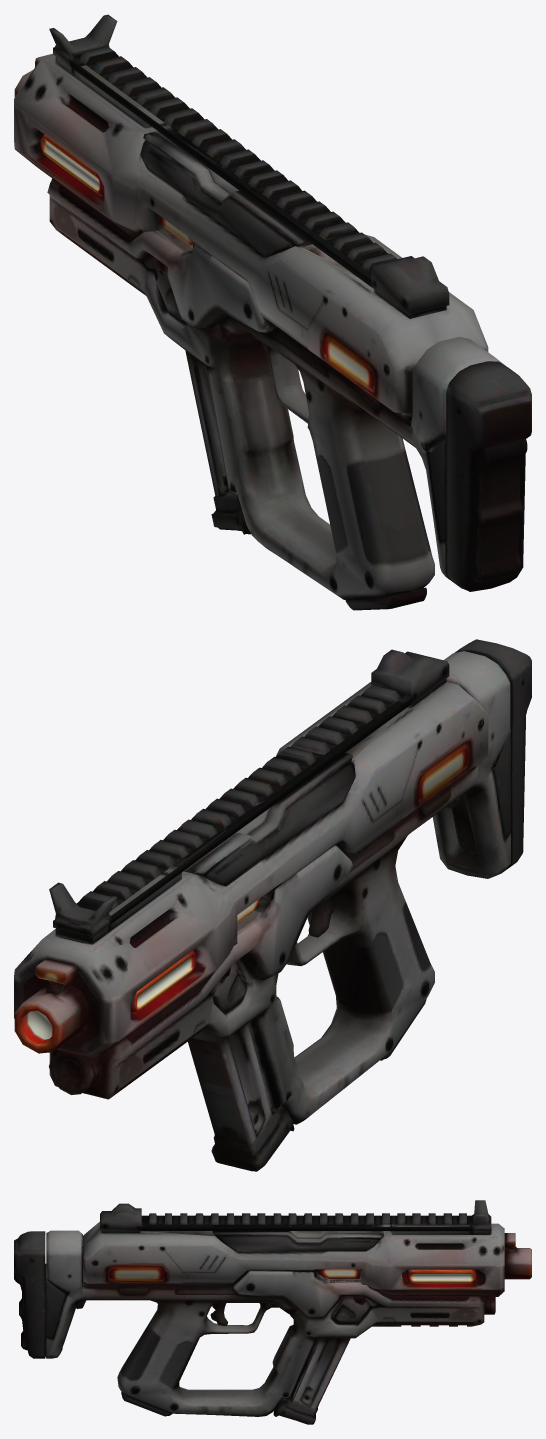
File: weapon-smg-v1.glb
The picture shows the model from 3 angles, top to bottom: view 1: azimuth 30°, elevation 25°; view 2: azimuth 150°, elevation 25°; view 3: azimuth 270°, elevation 25°; orthographic projection. The views are drawn at different scales.
Parts seen in each view (by area): view 1: weapon-smg-v1; view 2: weapon-smg-v1; view 3: weapon-smg-v1.
Boxes of the visible parts, left/top/right/bottom form: weapon-smg-v1: left=14, top=14, right=531, bottom=610; weapon-smg-v1: left=14, top=639, right=531, bottom=1171; weapon-smg-v1: left=14, top=1200, right=531, bottom=1424.
Size of the model in its own units: 0.0661 by 0.2351 by 0.52.
1 material, 1 textured.
